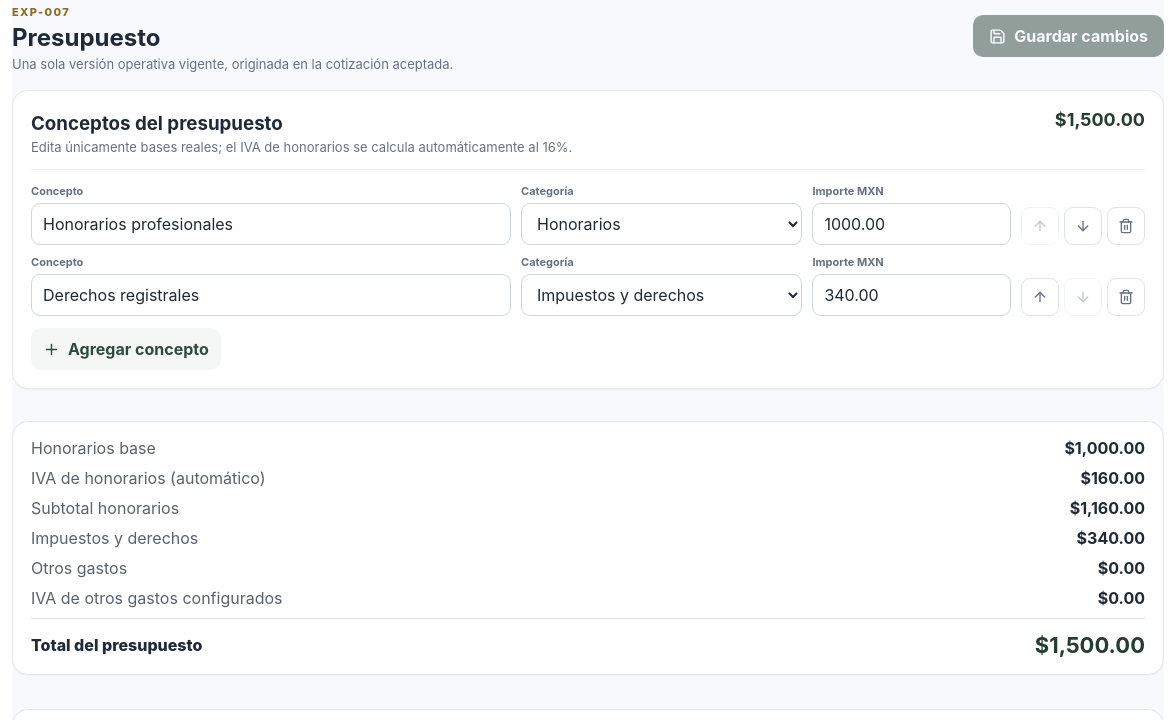
Scenario: EXP-007 · Presupuesto operativo UI › preserva el borrador ante conflicto de concurrencia
Step 1. Replace the text in the 1st field showing "Honorarios profesionales" with "Mi cambio local" → (271, 224), box [31, 203, 511, 245]
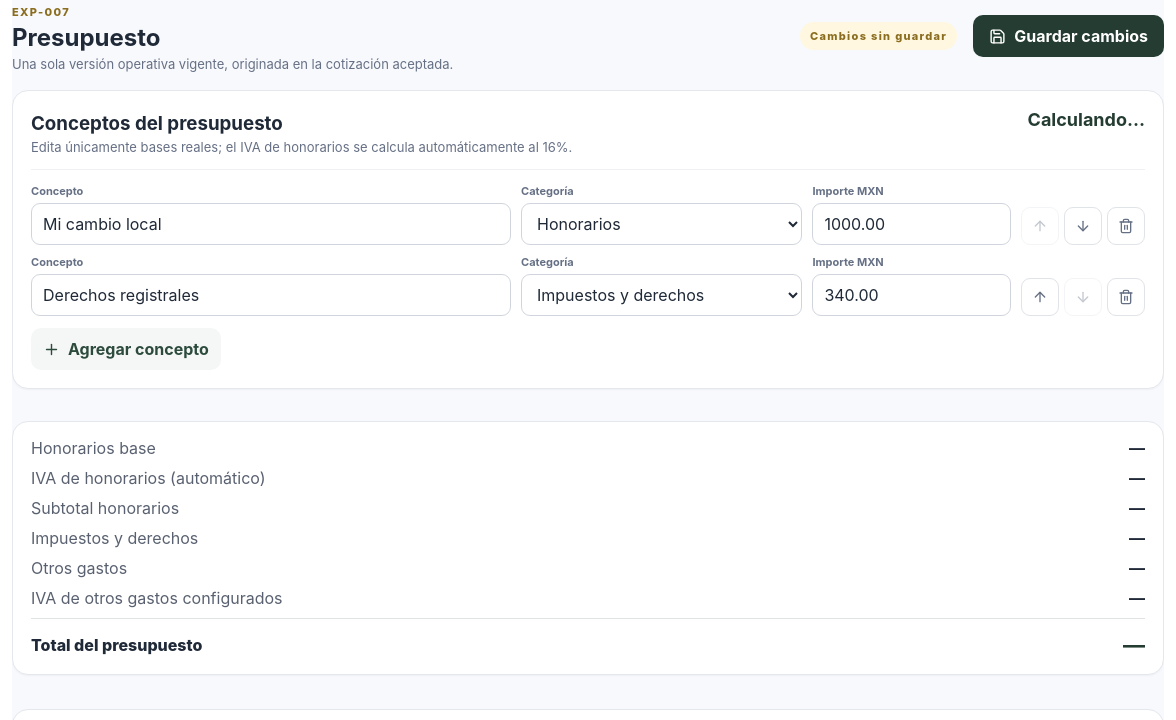
Step 2. Click the button "Guardar cambios" → (1069, 36), box [973, 15, 1164, 57]
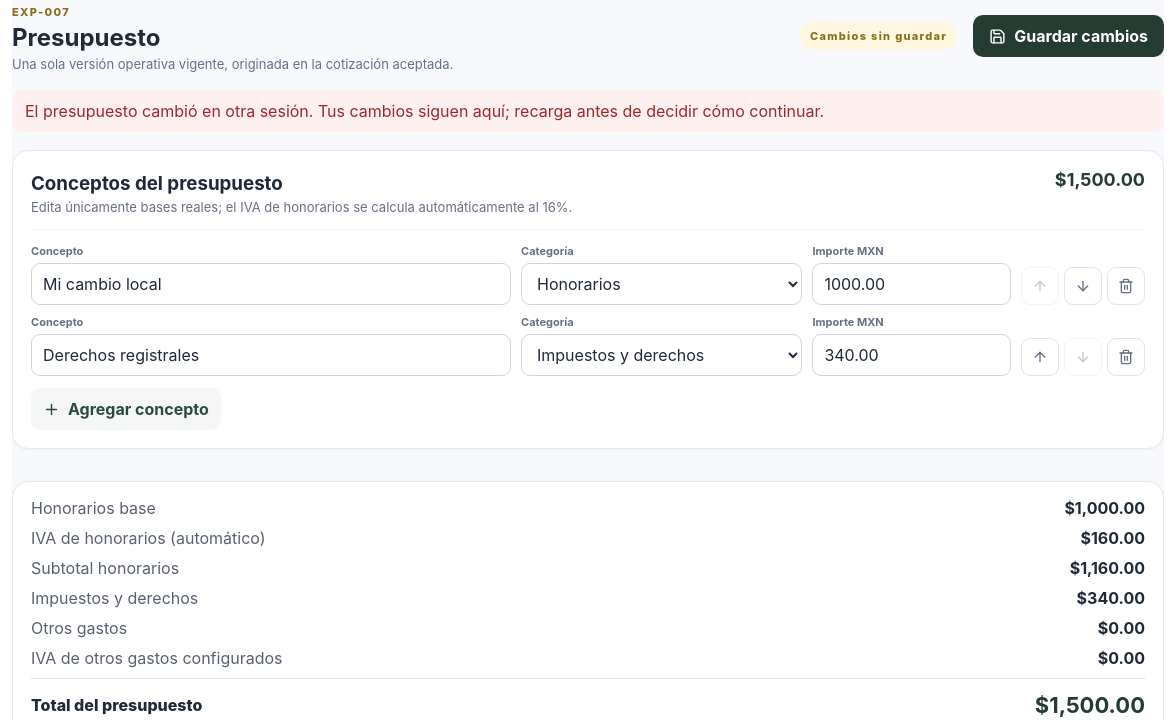
Result: the text "cambió en otra sesión" is shown at [25, 101, 824, 121]
